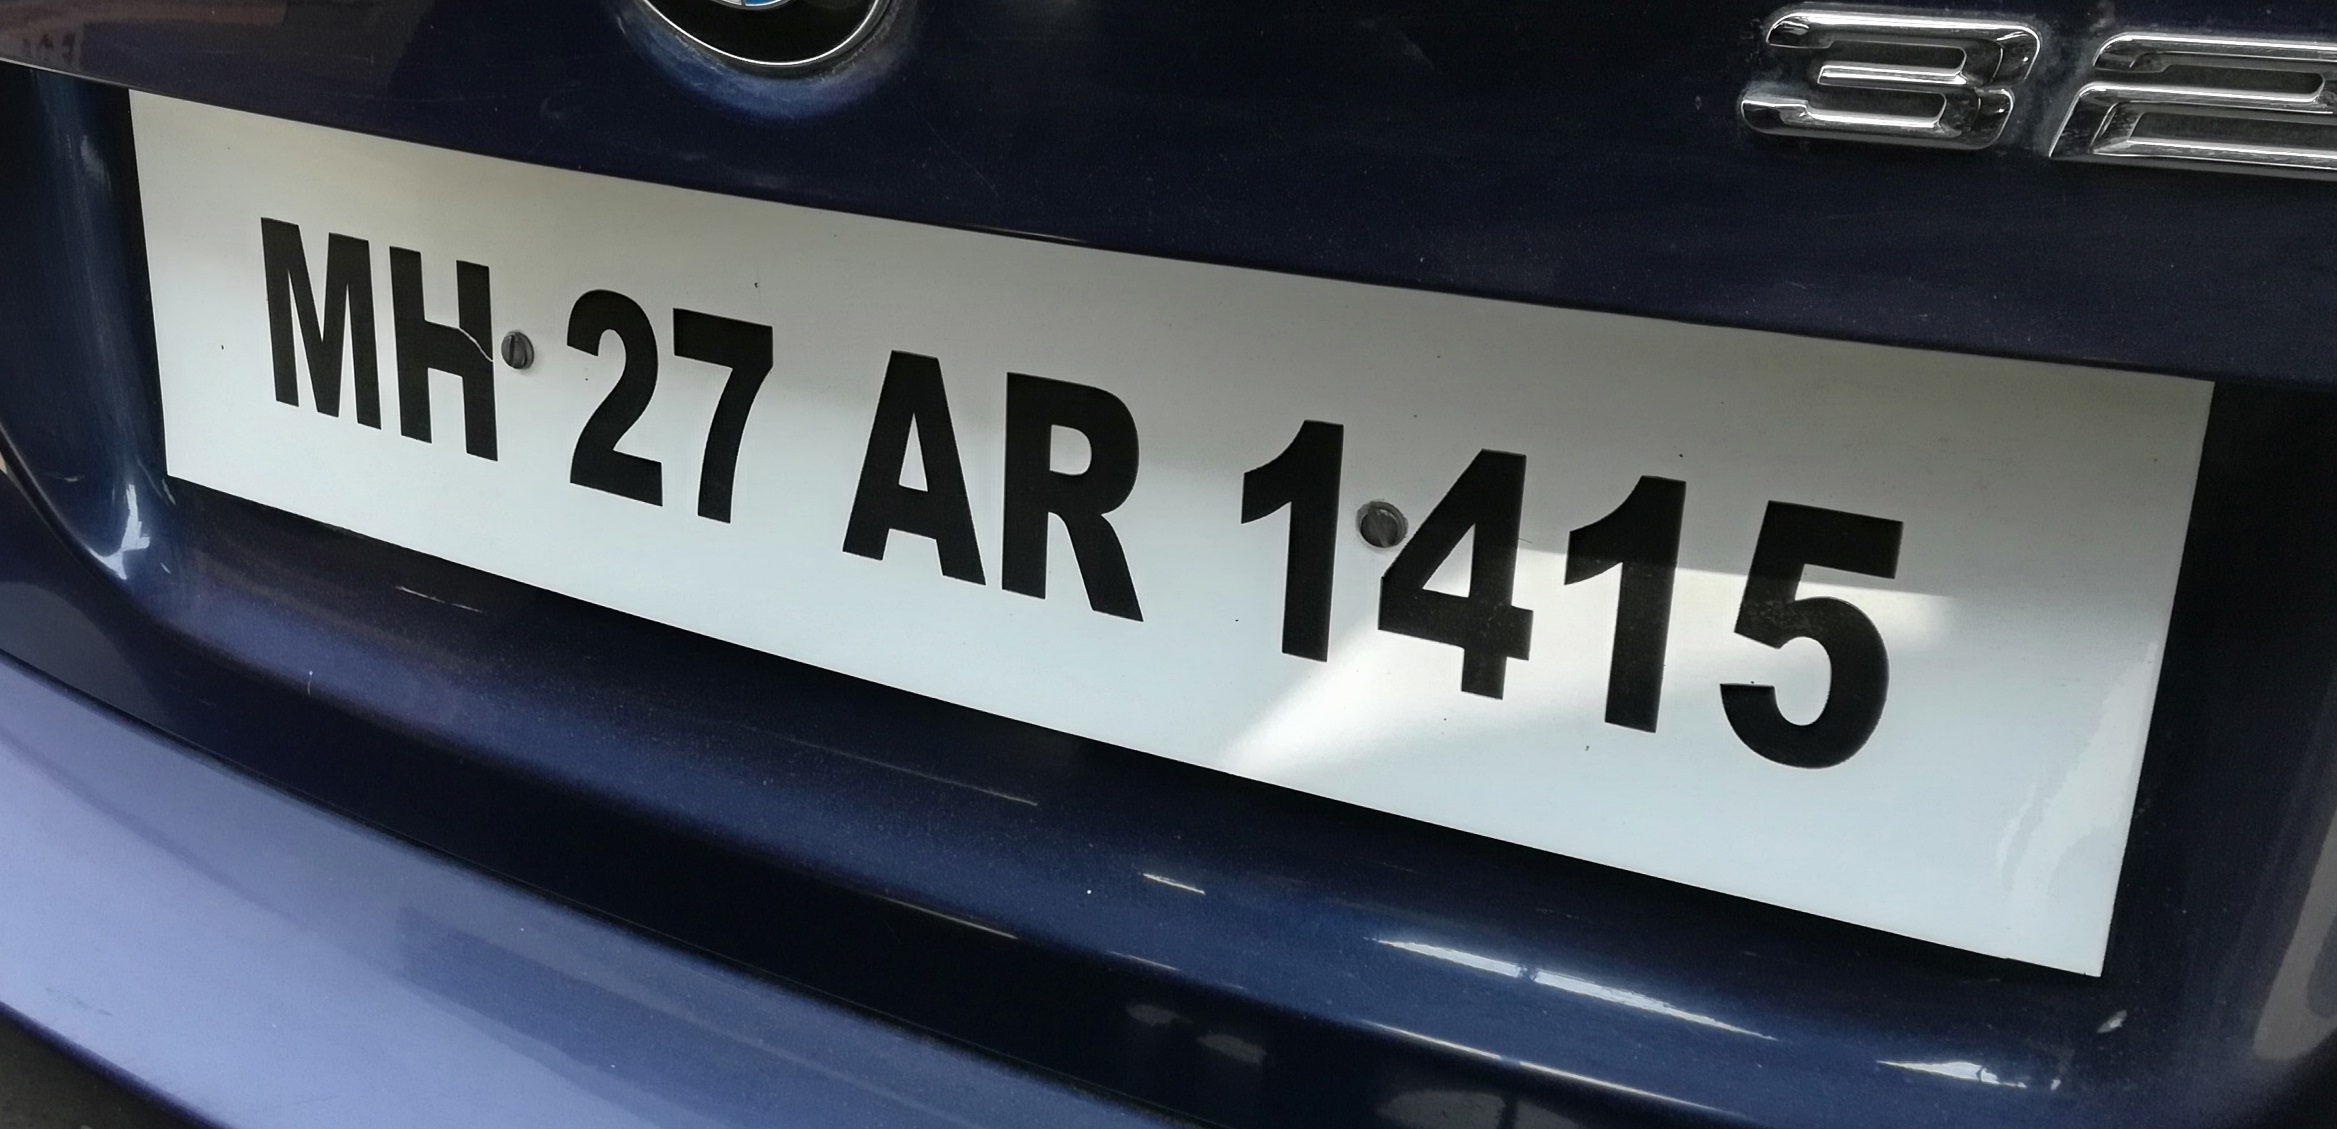numberplate: (118, 88, 2215, 994)
